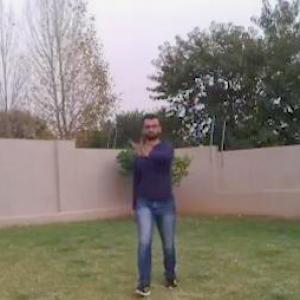takeoff-hand: (124, 136, 151, 170)
